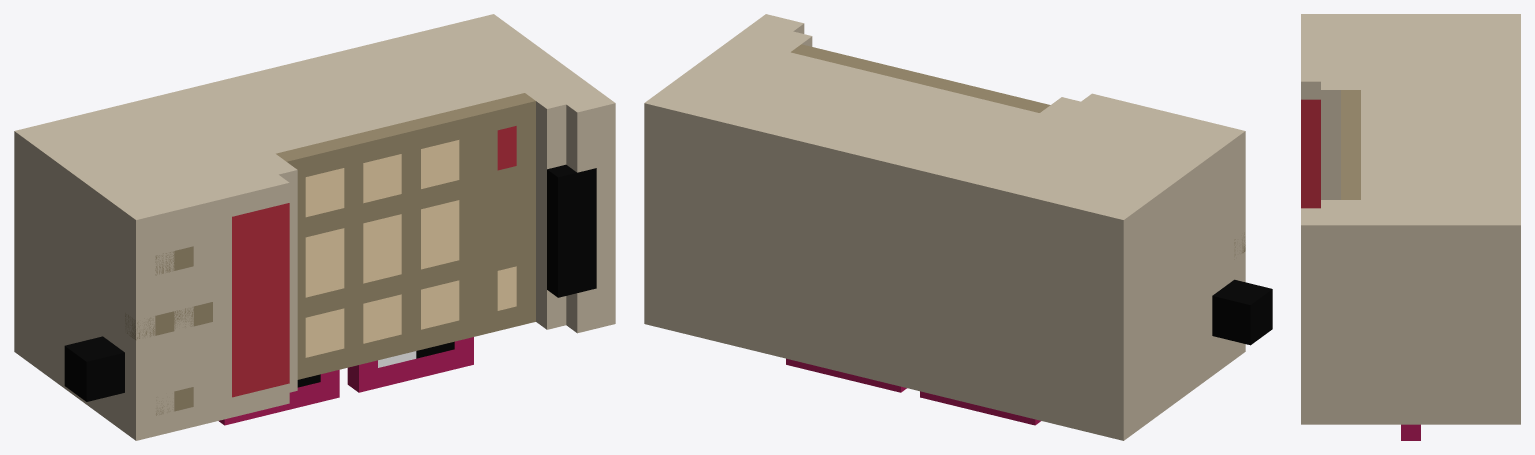
File: cordlessphone.glb
The picture shows the model from 3 angles, left to right: view 1: azimuth 30°, elevation 25°; view 2: azimuth 150°, elevation 25°; view 3: azimuth 270°, elevation 25°; orthographic projection. The views are drawn at different scales.
Visible parts, largest first — view 1: base, in, glasses, layer-2; view 2: base, glasses; view 3: base, glasses.
Boxes of the visible parts, bbox=[...] form: base: bbox=[14, 14, 615, 440]; in: bbox=[125, 164, 596, 415]; glasses: bbox=[219, 337, 473, 425]; layer-2: bbox=[297, 341, 454, 387]; base: bbox=[644, 14, 1272, 440]; glasses: bbox=[786, 358, 1040, 425]; base: bbox=[1301, 14, 1520, 424]; glasses: bbox=[1401, 424, 1420, 440].
Size of the model in its own units: 27 by 14 by 11.
Materials: 9 (9 with a texture image).
